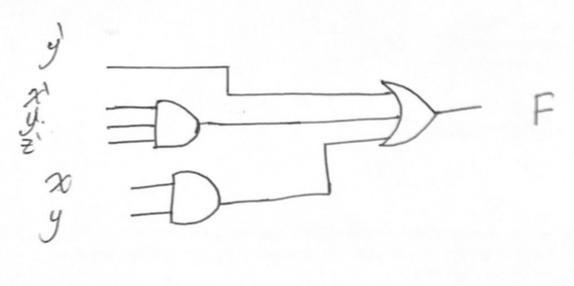AND: (147, 93, 216, 157), (167, 165, 226, 235)
OR: (379, 69, 443, 158)
